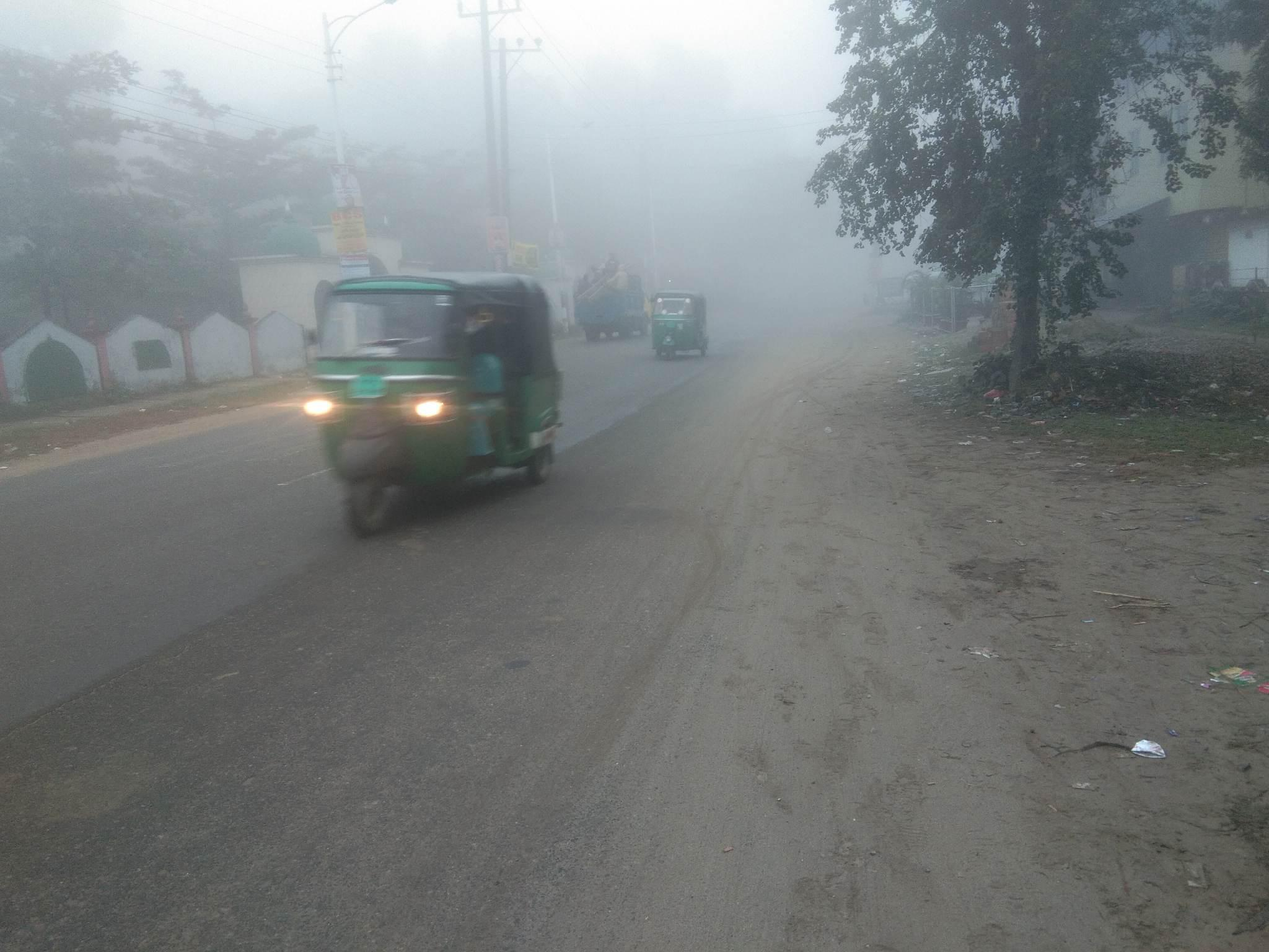Truck: (568, 257, 659, 353)
